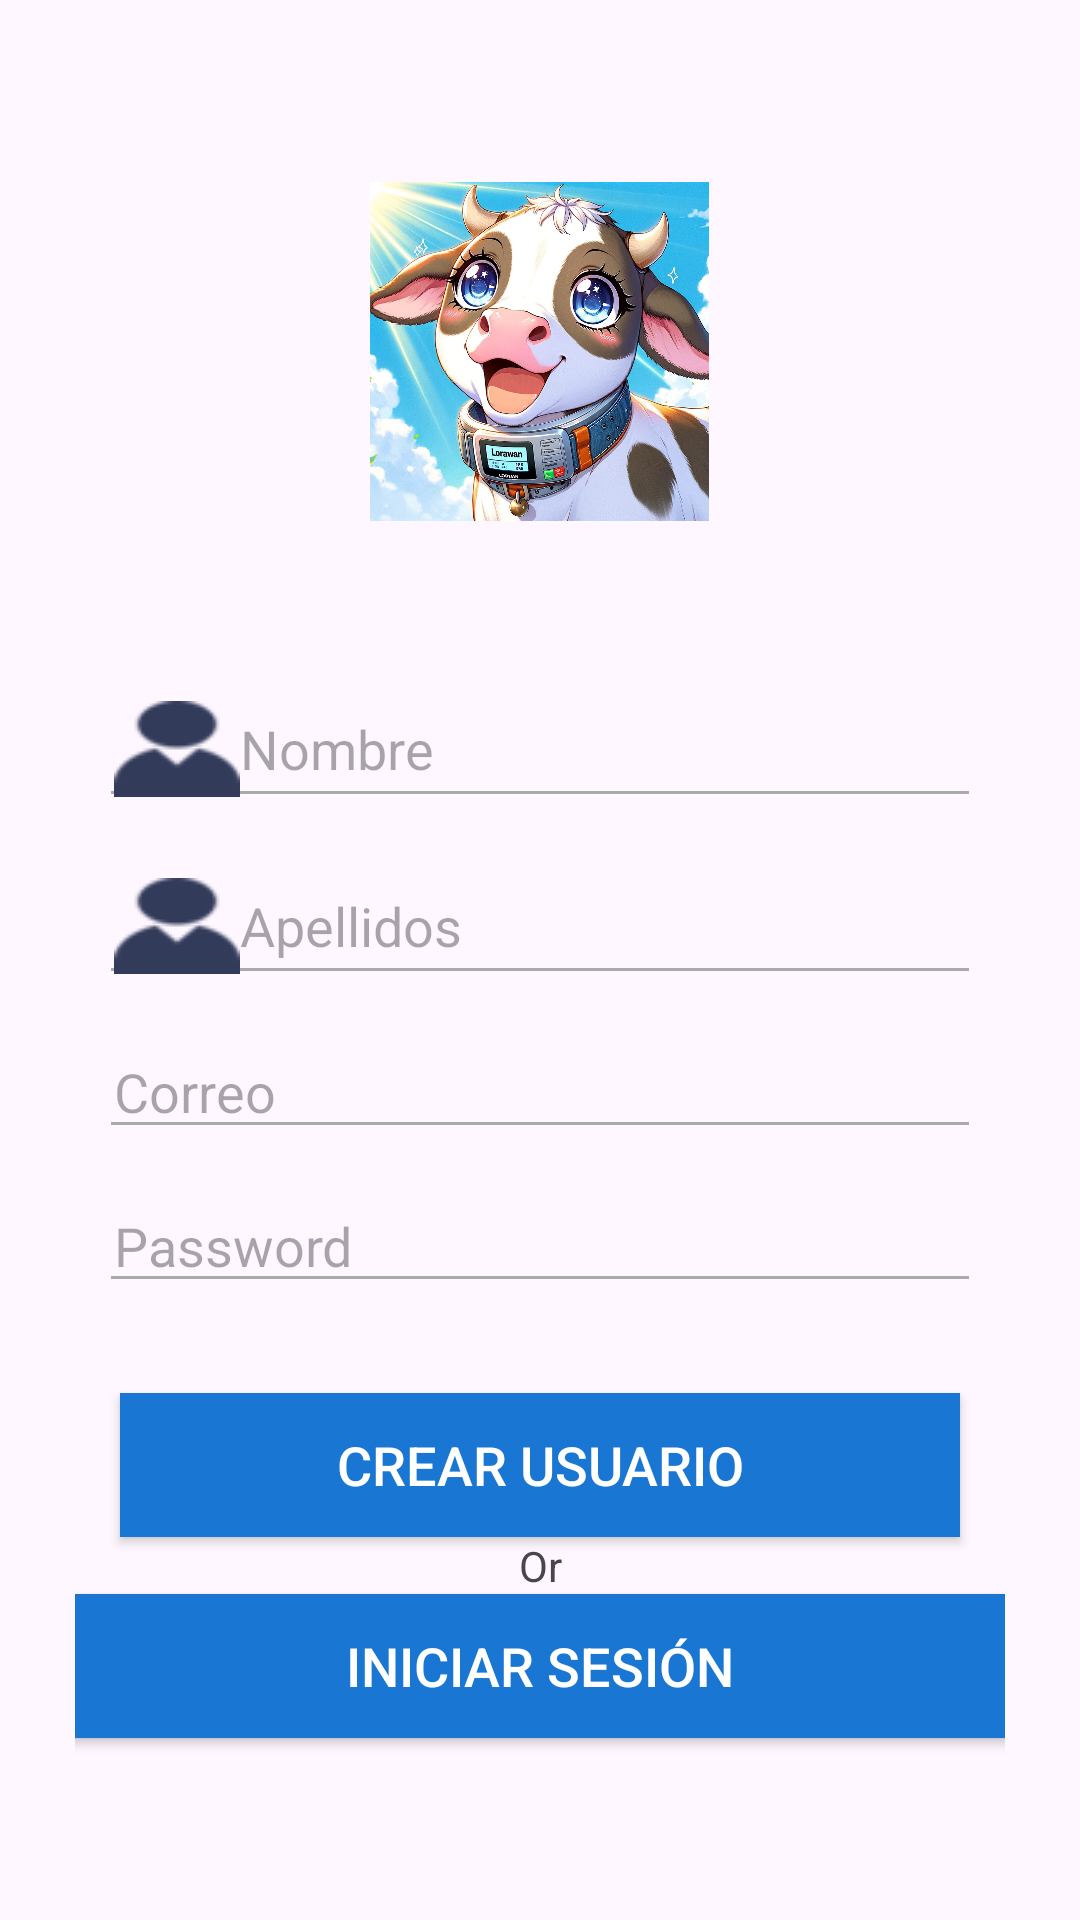

Icons on this 1080px x 1920px Android screen, each with its box as bbox=[x1, y1, x2, y2]:
vaquita: bbox=[370, 182, 709, 521]
